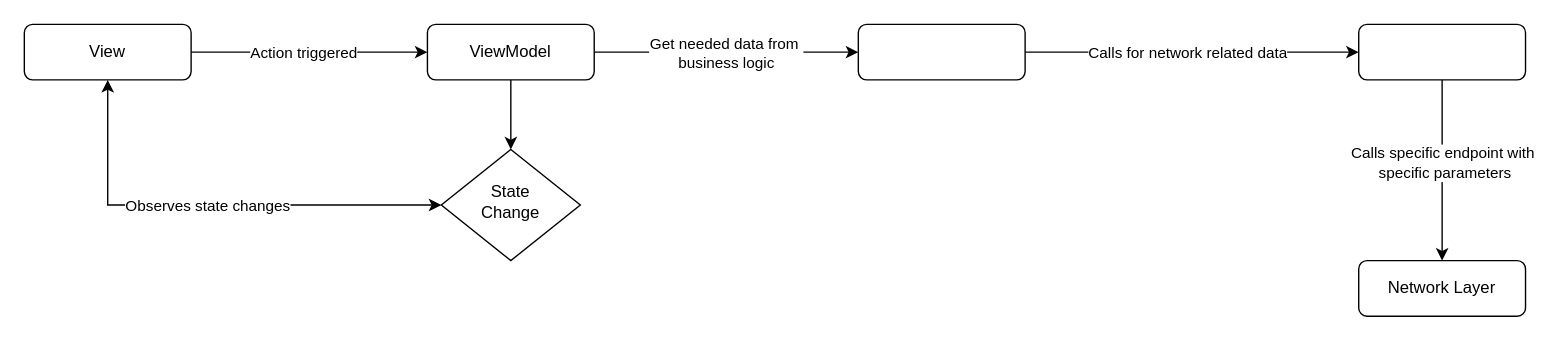
Some shapes in this 1562 by 341 pixel diagram are drawn without their labels. Here are the shapes that lost their labels. From the top down, the centre of each, then its label:
point (941, 51): Service
point (1441, 51): WebService
